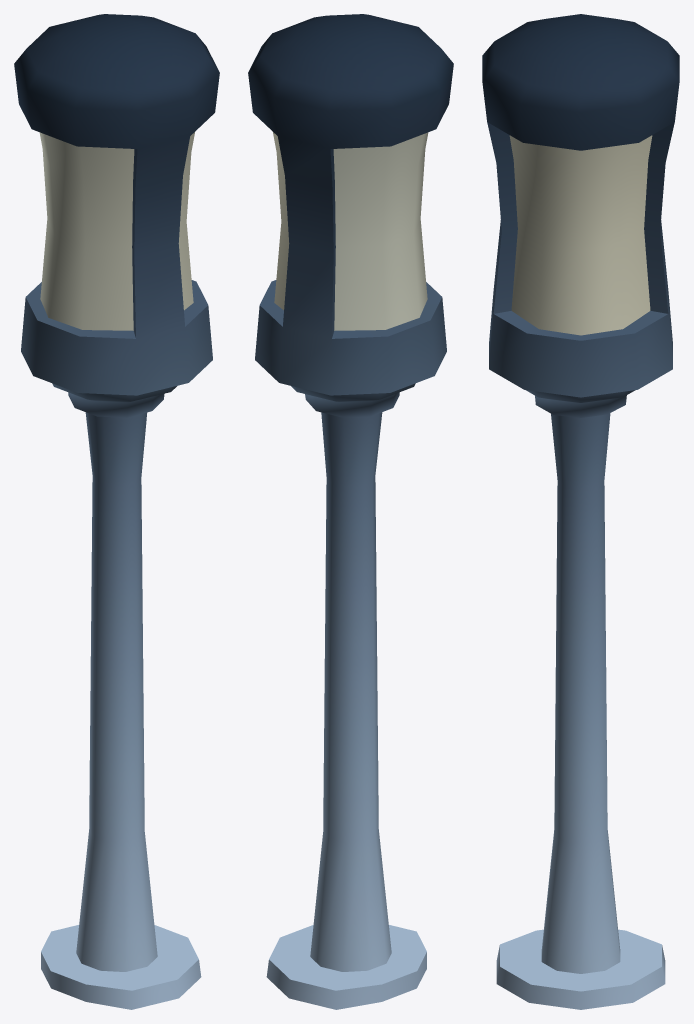
File: Prop_Light_D.fbx
3 views of the same model, side by side, from view 1: azimuth 30°, elevation 25°; view 2: azimuth 150°, elevation 25°; view 3: azimuth 270°, elevation 25° (orthographic).
Parts seen in each view (by area): view 1: Prop_light; view 2: Prop_light; view 3: Prop_light.
Part boxes in pixels (x1,y1,x2,y2): Prop_light: (14, 14, 219, 1009); Prop_light: (248, 14, 453, 1009); Prop_light: (482, 14, 679, 1009).
Bounding box in the file's own units: 41.99 × 211 × 39.94.
Materials: 2 (2 with a texture image).
